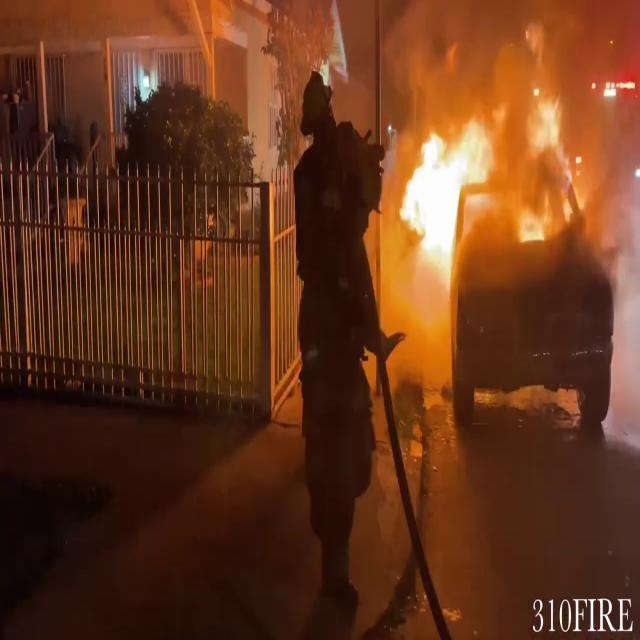Fire: (393, 63, 580, 293)
